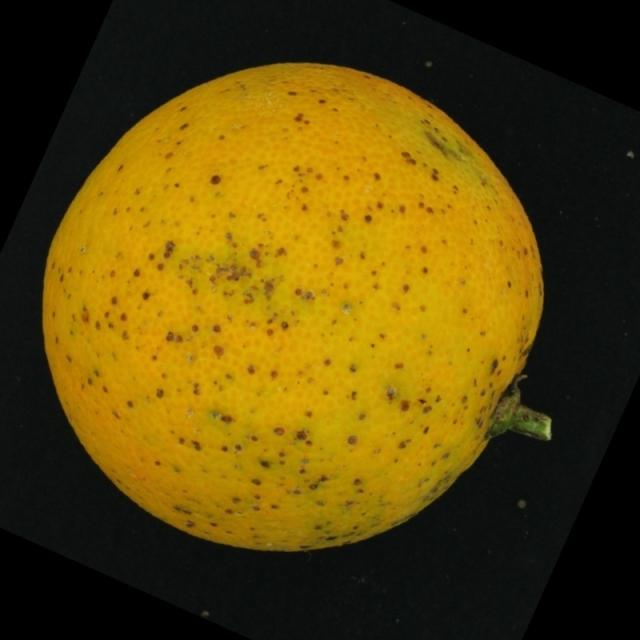grenning: (30, 42, 589, 579)
